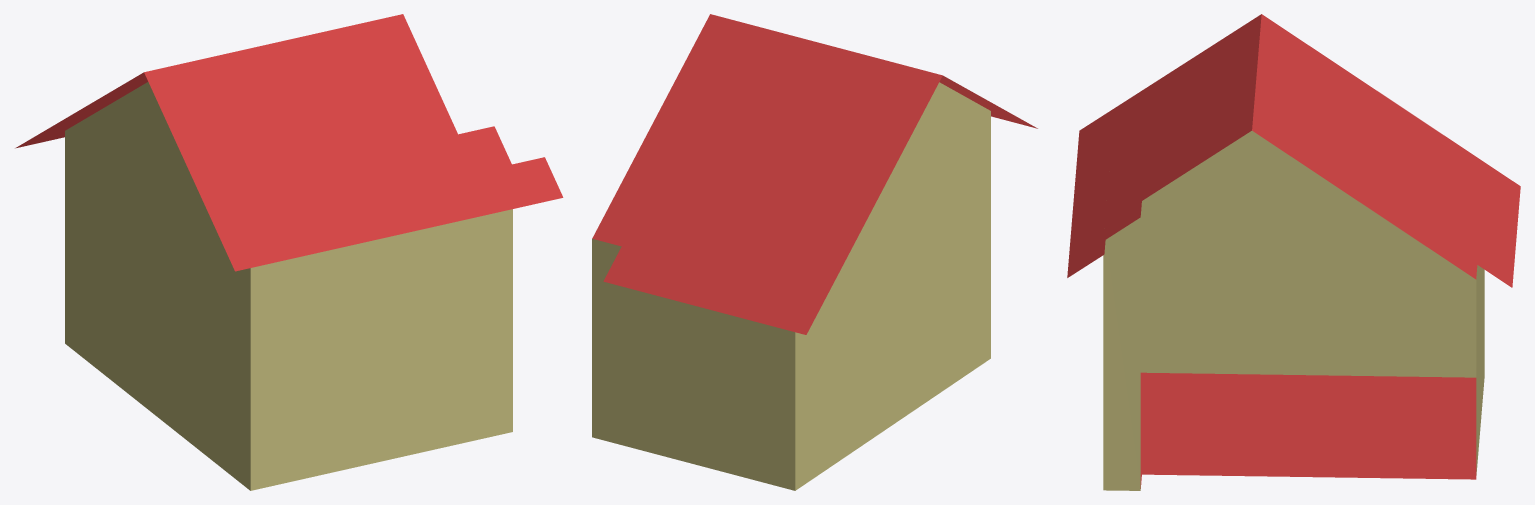
3 views of the same model, side by side, from view 1: azimuth 30°, elevation 25°; view 2: azimuth 150°, elevation 25°; view 3: azimuth 270°, elevation 25° (orthographic). The views are drawn at different scales.
Bounding box in the file's own units: 10.01 × 12.95 × 10.89.
